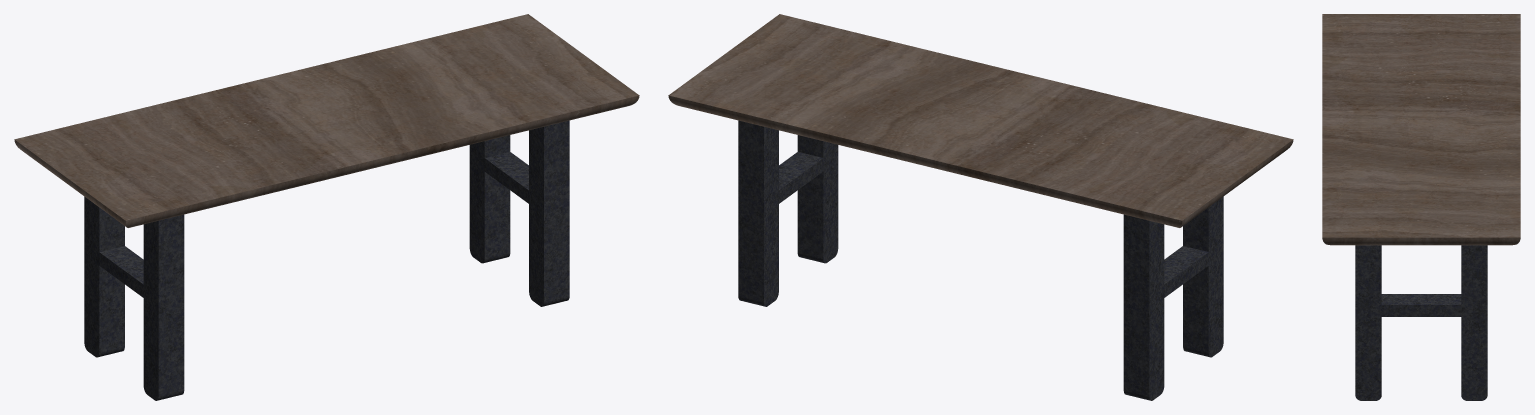
The model's file is 24T1_GAD174_P2_Desk.fbx.
3 views of the same model, side by side, from view 1: azimuth 30°, elevation 25°; view 2: azimuth 150°, elevation 25°; view 3: azimuth 270°, elevation 25° (orthographic). The views are drawn at different scales.
Parts seen in each view (by area): view 1: Table; view 2: Table; view 3: Table.
Boxes of the visible parts, x1,y1,x2,y2 form: Table: [14, 14, 639, 400]; Table: [668, 14, 1293, 400]; Table: [1322, 14, 1520, 400].
Size of the model in its own units: 800 by 310 by 300.
